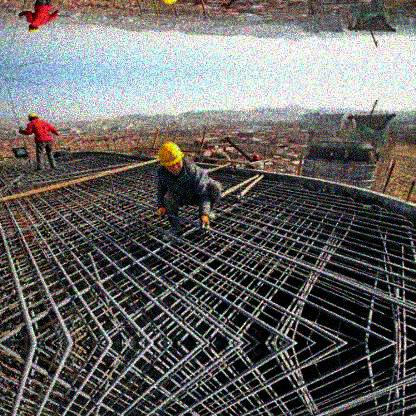helmet: (157, 141, 186, 177), (27, 112, 39, 122), (28, 24, 39, 34)
